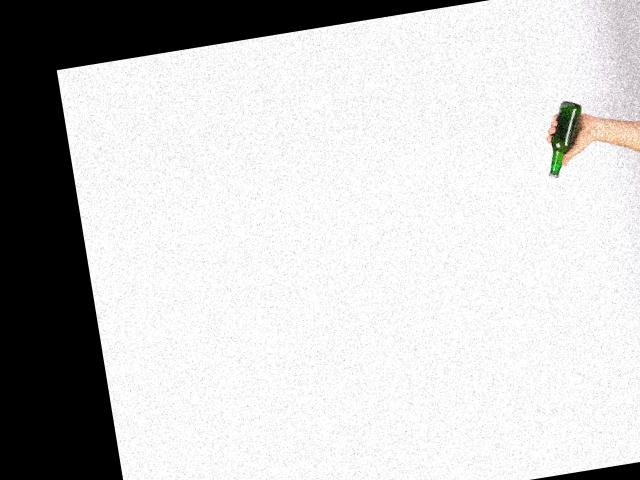beer: (538, 98, 592, 178)
